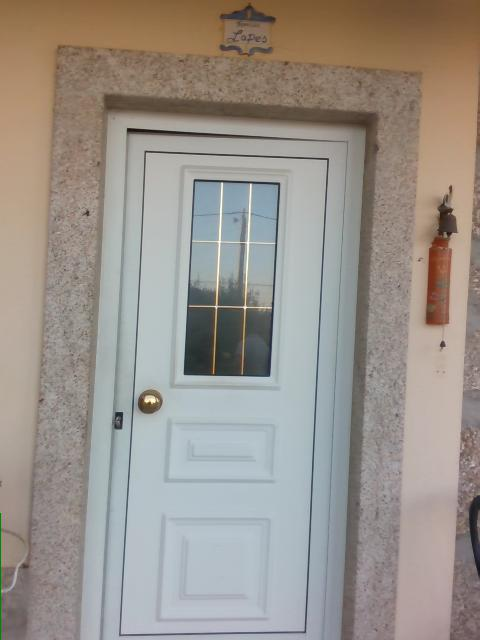closed_door: (77, 104, 362, 639)
